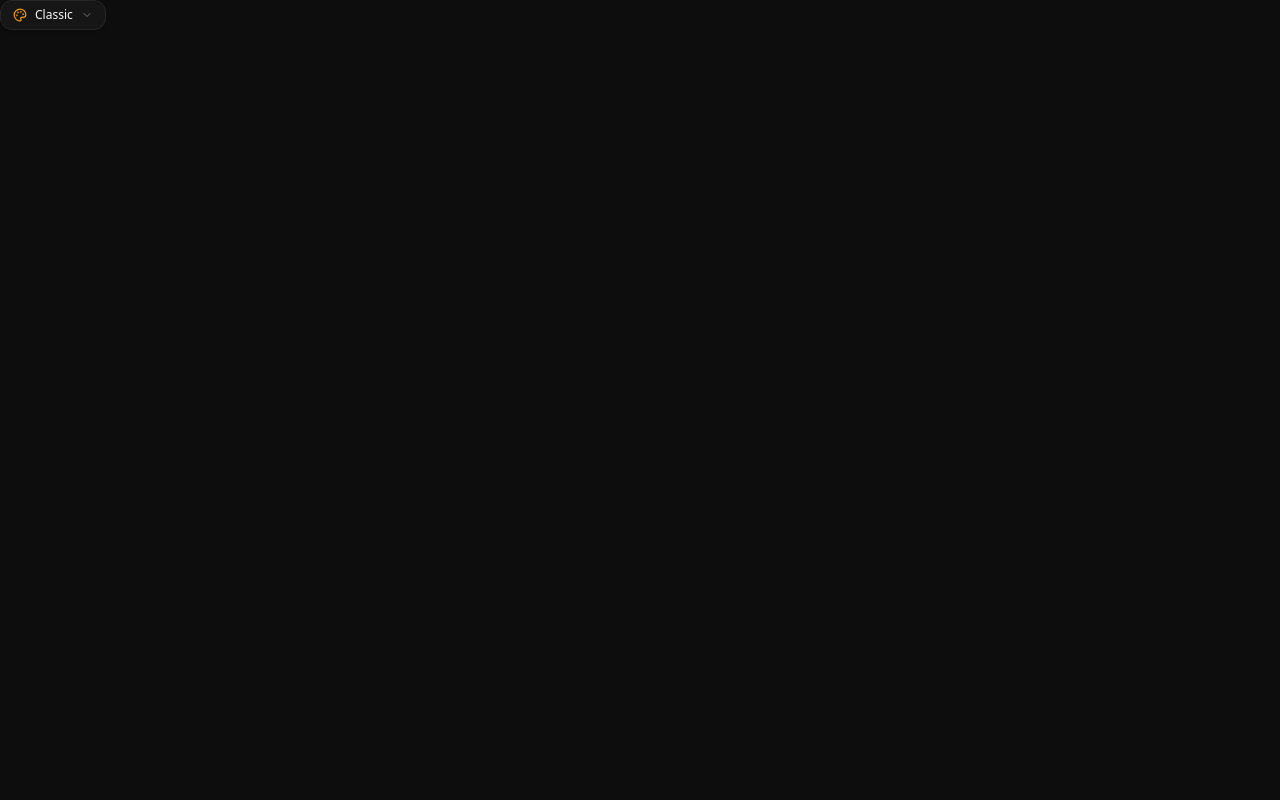
Test: DesignSwitcher Component › switches preset on click, pairs layout, persists to storage, and closes popover
Click the button with test id "design-switcher-trigger" at (53, 15), box [0,0,106,30]
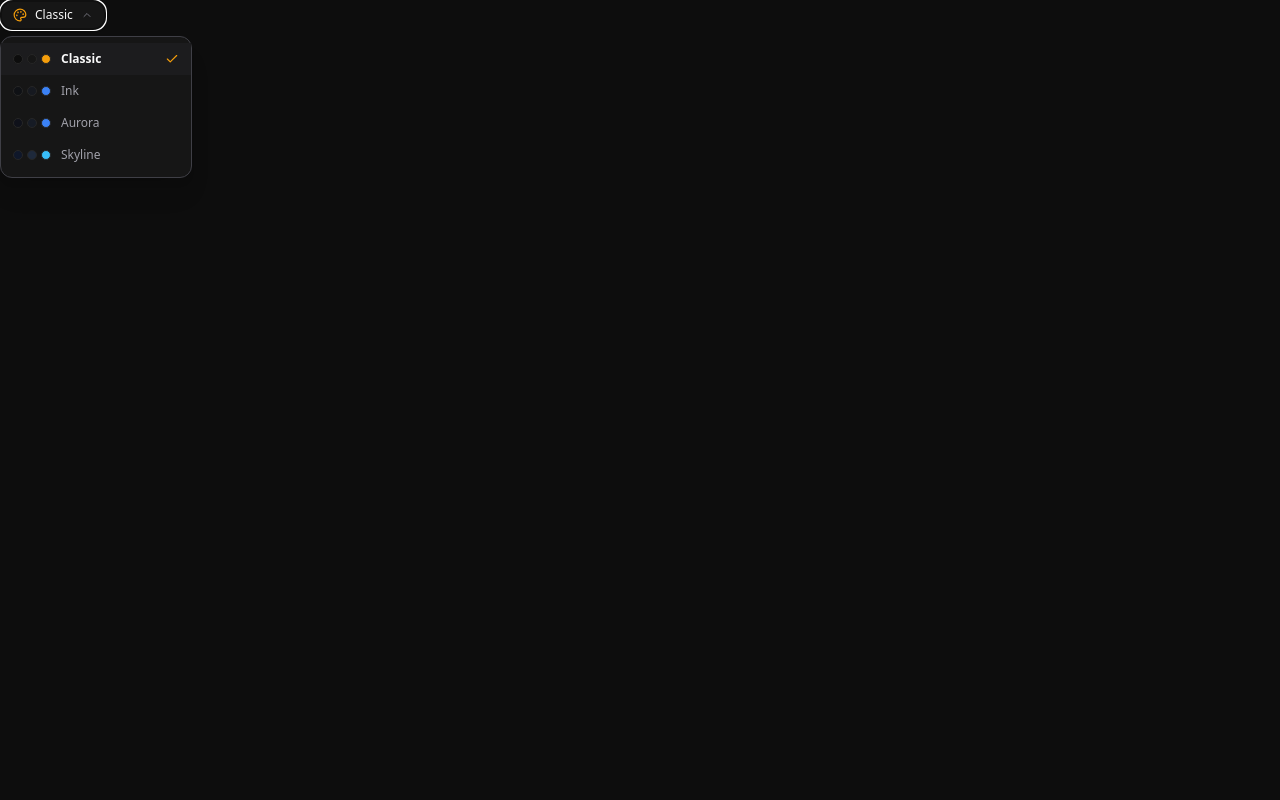
Click the radio button with test id "design-toggle-ink" at (96, 91), box [1,75,191,107]
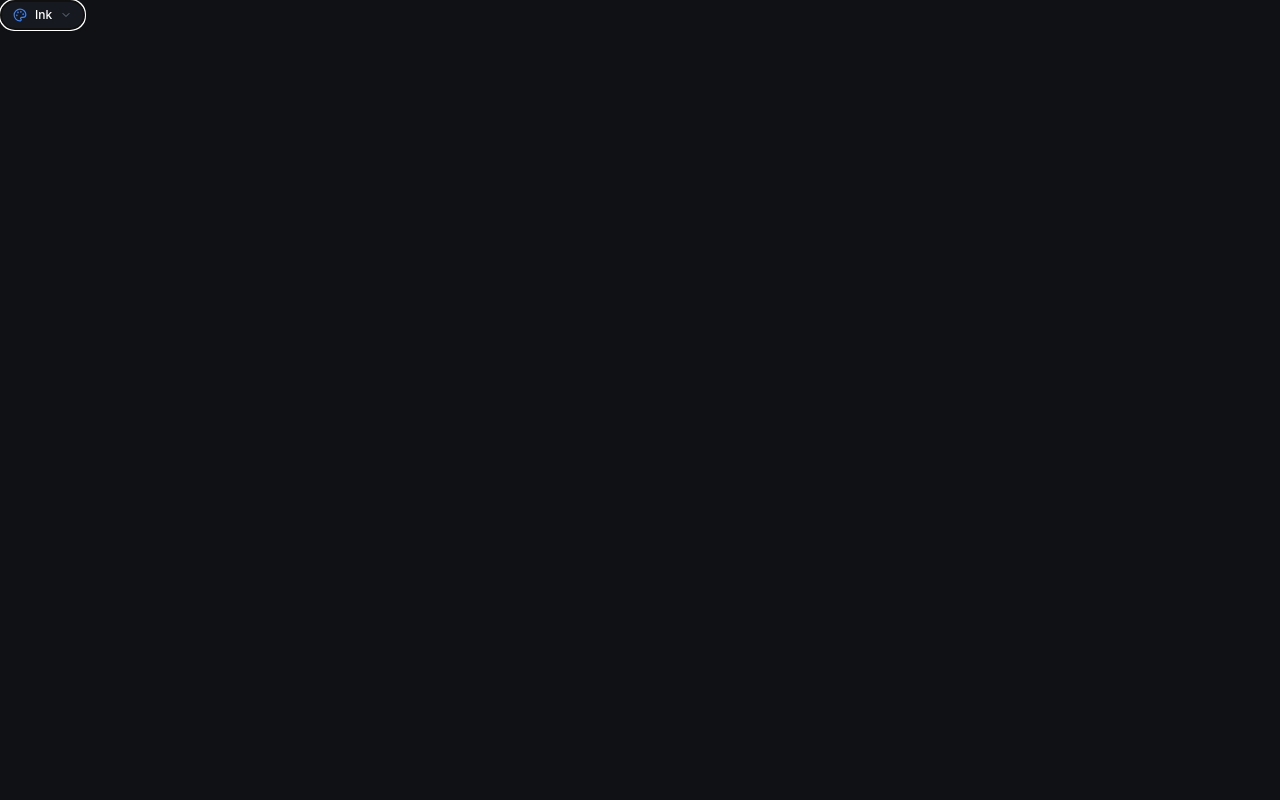
Expected: the button with test id "design-switcher-trigger" reads "Ink", [0,0,85,30]
